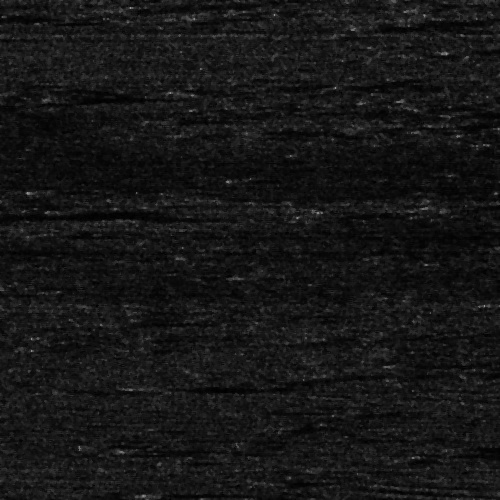object: (0, 207, 43, 218), (127, 384, 180, 389)
shadow: (0, 207, 188, 218), (154, 384, 275, 389)
